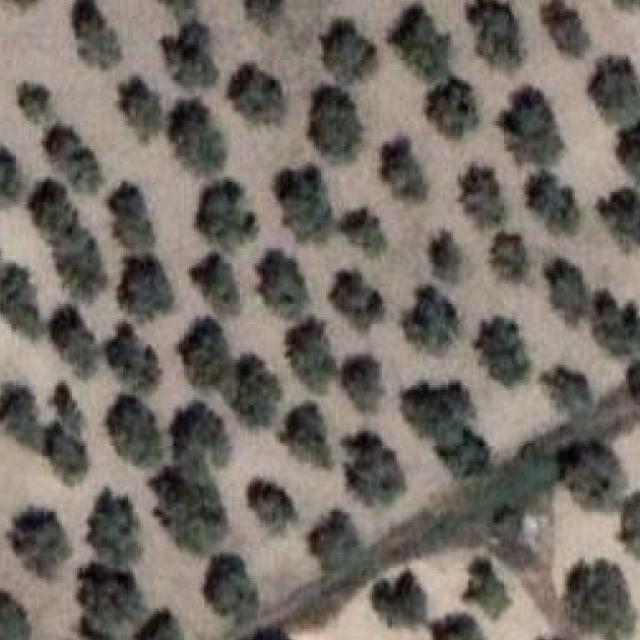Tree: (148, 466, 228, 554), (568, 561, 638, 640), (499, 85, 565, 163), (48, 222, 108, 306), (560, 441, 633, 510), (342, 431, 406, 504), (9, 507, 73, 579), (77, 563, 141, 634), (172, 398, 230, 476), (88, 486, 142, 569), (390, 4, 453, 75), (197, 179, 259, 250), (168, 100, 226, 173), (276, 170, 334, 243), (309, 86, 364, 162), (224, 358, 284, 427), (42, 124, 102, 192), (476, 316, 532, 387), (406, 383, 470, 445), (160, 20, 220, 86), (204, 552, 259, 624), (178, 319, 236, 387), (50, 307, 104, 380), (0, 248, 44, 337), (108, 395, 162, 466), (106, 322, 162, 390), (286, 317, 336, 391), (588, 55, 640, 126), (402, 286, 458, 351), (321, 20, 377, 84), (309, 510, 364, 573), (118, 256, 172, 320), (438, 424, 495, 484), (258, 251, 309, 318), (426, 75, 480, 138), (468, 4, 522, 67), (228, 62, 284, 122), (36, 416, 92, 475), (329, 271, 384, 330), (529, 170, 581, 232), (280, 402, 327, 468), (463, 558, 513, 620), (77, 0, 121, 69), (108, 182, 154, 248), (545, 258, 589, 326), (118, 75, 163, 141), (372, 573, 428, 626), (382, 136, 429, 199), (27, 177, 78, 234), (192, 253, 238, 315), (461, 165, 507, 226), (0, 385, 42, 451), (247, 479, 296, 534), (542, 0, 590, 56), (598, 292, 640, 356), (597, 190, 640, 251), (540, 364, 592, 414), (344, 354, 385, 412), (341, 207, 388, 253), (431, 230, 464, 284), (615, 484, 640, 553), (492, 233, 528, 280), (136, 608, 188, 640), (430, 613, 484, 640), (0, 591, 27, 640), (615, 115, 640, 167), (232, 621, 296, 640), (19, 85, 50, 124), (0, 146, 21, 200), (242, 0, 286, 21), (628, 363, 640, 406)
